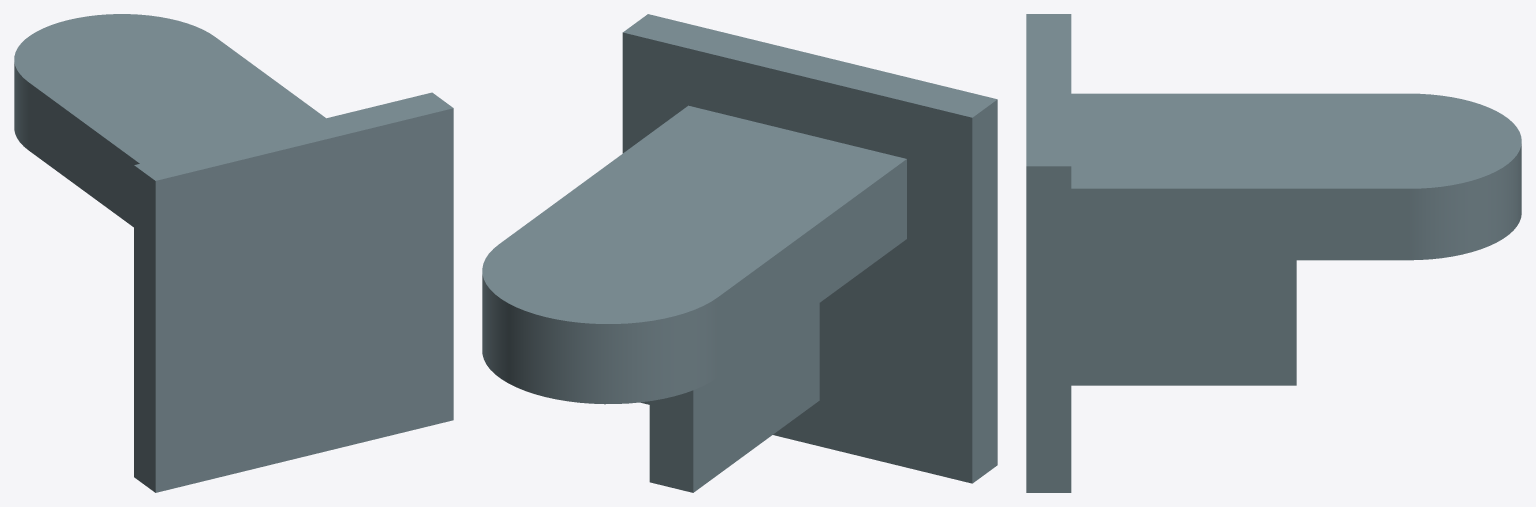
Rendered from step_03.glb.
3 renders of one model, left to right at view 1: azimuth 30°, elevation 25°; view 2: azimuth 150°, elevation 25°; view 3: azimuth 270°, elevation 25°, orthographic. The views are drawn at different scales.
Visible parts, largest first — view 1: part__actuator bracket; view 2: part__actuator bracket; view 3: part__actuator bracket.
Boxes of the visible parts, x1,y1,x2,y2 form: part__actuator bracket: [14, 14, 453, 492]; part__actuator bracket: [482, 14, 997, 492]; part__actuator bracket: [1026, 14, 1521, 492].
Bounding box in the file's own units: 160 × 160 × 220.
